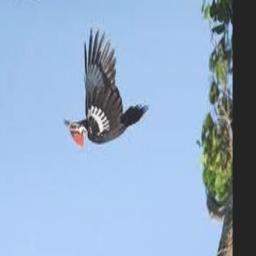Woodpecker: (64, 28, 149, 148)
